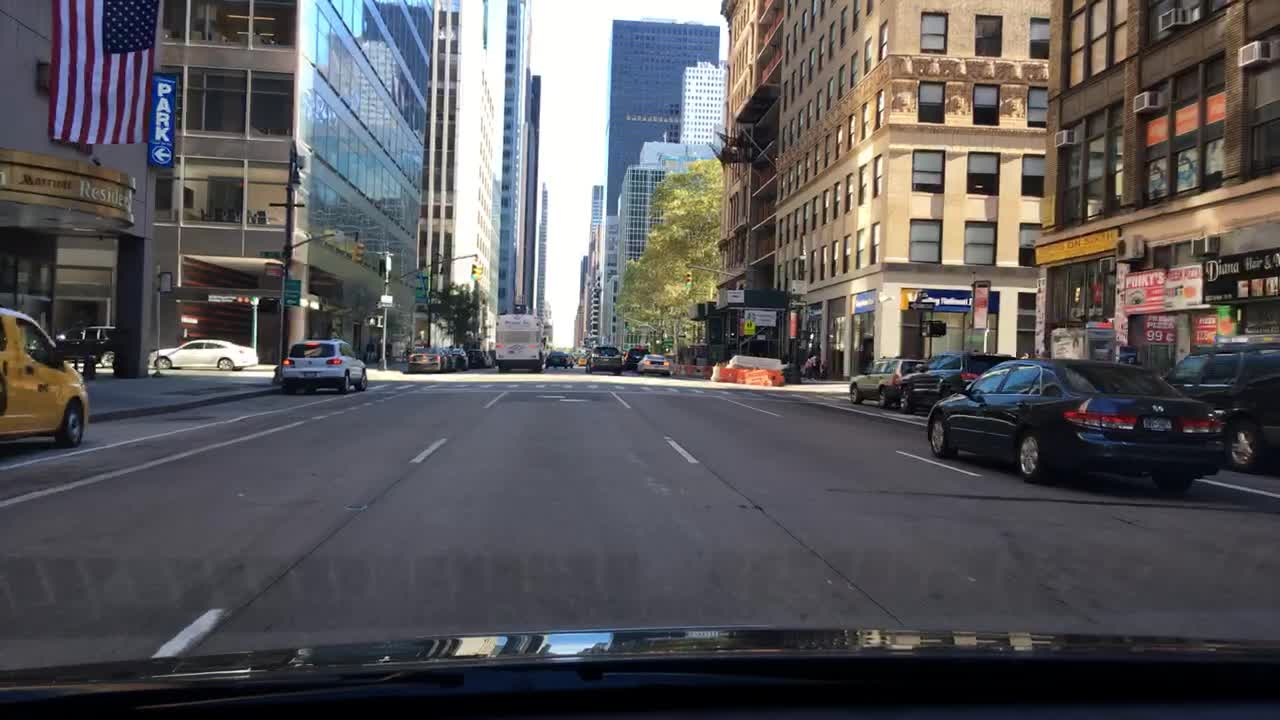bus: (494, 311, 544, 375)
car: (925, 355, 1232, 495), (1153, 332, 1278, 475), (0, 303, 90, 451), (898, 350, 1017, 417), (280, 338, 367, 393), (846, 354, 929, 410), (152, 338, 259, 371), (52, 322, 116, 371), (405, 344, 450, 373), (584, 344, 622, 374), (634, 352, 673, 378), (621, 343, 649, 372), (544, 349, 576, 369), (464, 347, 492, 369), (450, 345, 470, 370), (486, 348, 499, 365), (576, 352, 587, 366), (569, 351, 579, 362)
person: (807, 352, 819, 380), (385, 337, 392, 361), (377, 335, 382, 360), (1020, 351, 1030, 360)
traffic light: (920, 320, 947, 337), (353, 242, 366, 262), (364, 315, 379, 326), (685, 270, 691, 286), (471, 263, 476, 281), (476, 264, 481, 279)
traffic sign: (283, 279, 300, 305), (157, 272, 173, 294), (743, 318, 757, 334), (256, 249, 280, 258), (908, 301, 934, 309), (792, 279, 807, 292), (380, 294, 393, 303), (789, 301, 806, 306), (677, 333, 686, 338)
